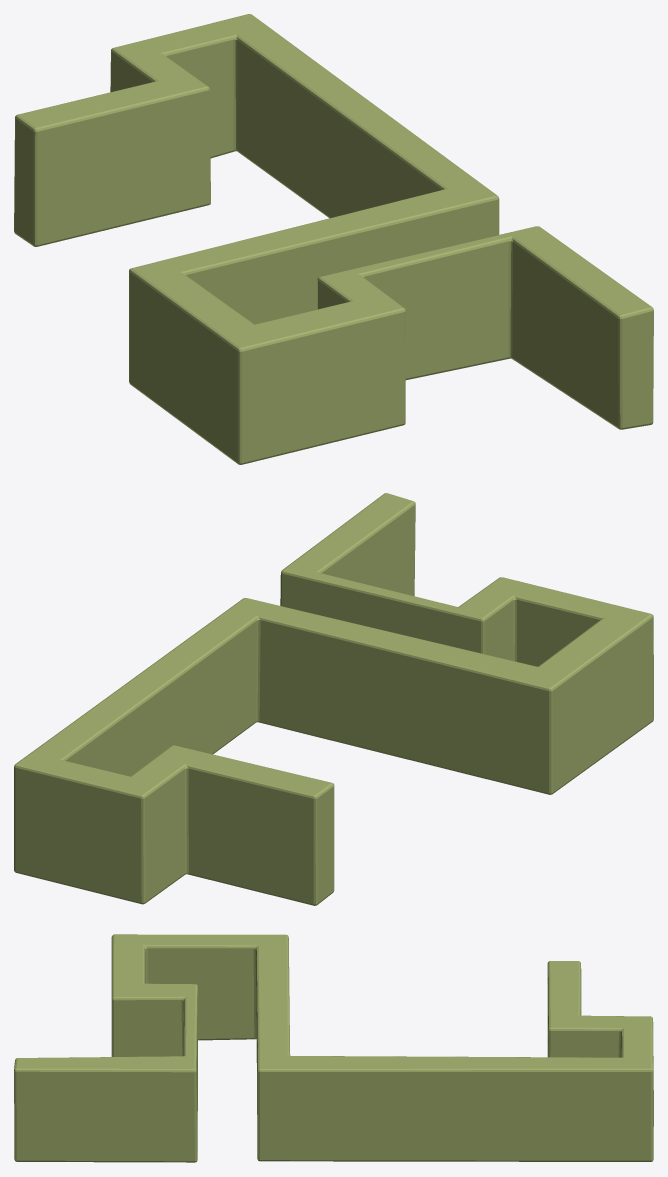
Rendered from Wall piece 6 collider.fbx.
3 views of the same model, one above another, from view 1: azimuth 30°, elevation 25°; view 2: azimuth 150°, elevation 25°; view 3: azimuth 270°, elevation 25° (orthographic). The views are drawn at different scales.
Visible parts, largest first — view 1: wall piece 6 collider; view 2: wall piece 6 collider; view 3: wall piece 6 collider.
Part boxes in pixels (bbox=[...]): wall piece 6 collider: bbox=[14, 14, 653, 464]; wall piece 6 collider: bbox=[14, 493, 653, 905]; wall piece 6 collider: bbox=[14, 934, 653, 1162].
Size of the model in its own units: 1334 by 2637 by 439.
